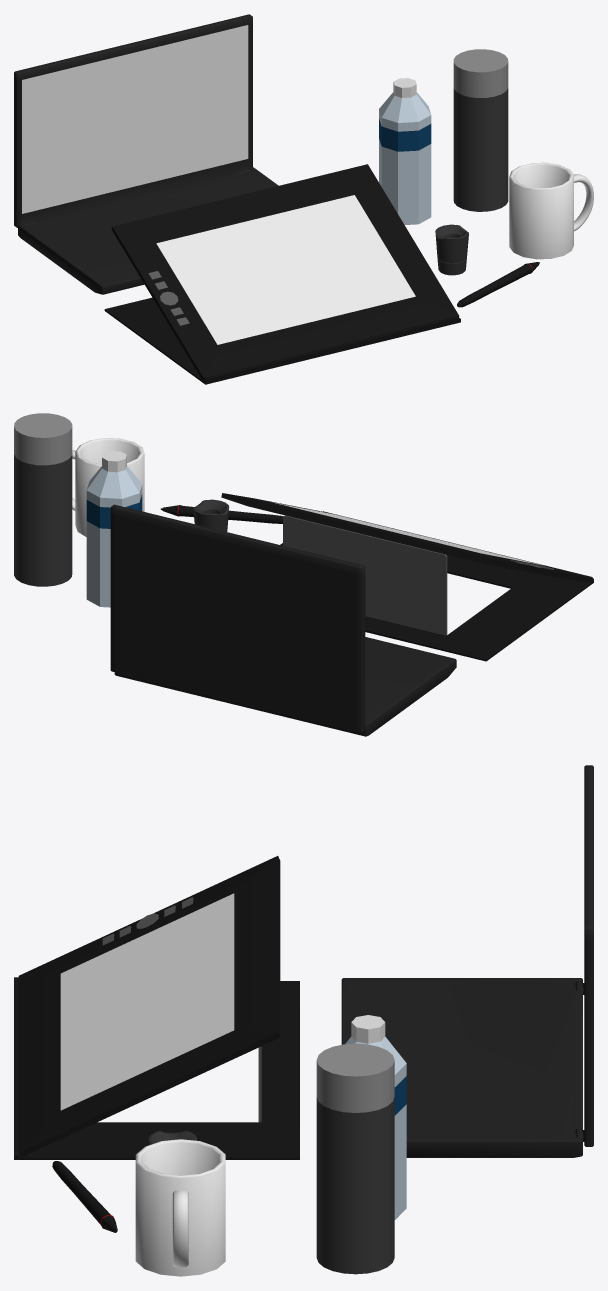
The model's file is deskAssets.fbx.
The picture shows the model from 3 angles, top to bottom: view 1: azimuth 30°, elevation 25°; view 2: azimuth 150°, elevation 25°; view 3: azimuth 270°, elevation 25°; orthographic projection. The views are drawn at different scales.
Parts seen in each view (by area): view 1: wacom_001, laptop_001, thermos_001, waterBottle_001, coffeeMug_001, wacomPot_001, wacomPen_001; view 2: laptop_001, wacom_001, thermos_001, waterBottle_001, coffeeMug_001, wacomPot_001, wacomPen_001; view 3: wacom_001, laptop_001, thermos_001, coffeeMug_001, waterBottle_001, wacomPen_001.
Part boxes in pixels (x1,y1,x2,y2): wacom_001: (104, 164, 460, 384); laptop_001: (14, 14, 278, 294); thermos_001: (453, 49, 508, 211); waterBottle_001: (379, 78, 431, 224); coffeeMug_001: (509, 162, 593, 259); wacomPot_001: (435, 224, 468, 275); wacomPen_001: (457, 262, 539, 307); laptop_001: (110, 504, 456, 736); wacom_001: (221, 493, 593, 661); thermos_001: (14, 413, 72, 586); waterBottle_001: (86, 451, 142, 607); coffeeMug_001: (72, 438, 144, 536); wacomPot_001: (193, 499, 229, 531); wacomPen_001: (160, 505, 283, 523); wacom_001: (14, 856, 299, 1159); laptop_001: (341, 765, 593, 1157); thermos_001: (316, 1043, 394, 1274); coffeeMug_001: (135, 1139, 225, 1276); waterBottle_001: (345, 1015, 406, 1219); wacomPen_001: (52, 1161, 117, 1232).
Bounding box in the file's own units: 75.95 × 26.46 × 60.41.
